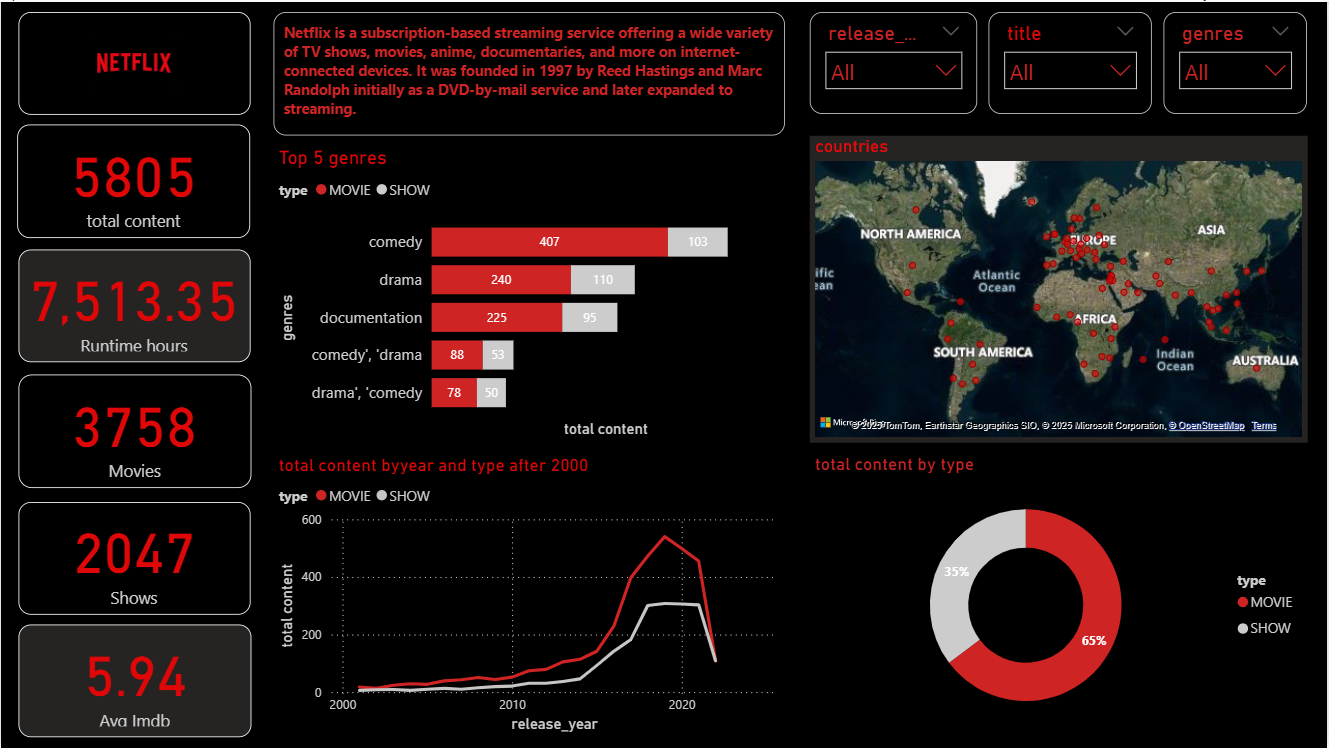

The page's visual inventory and layout, read from the dashboard file:
{"tool":"powerbi","page":{"name":"Page 1","canvas":[1280,720],"ordinal":0},"visuals":[{"type":"card","fields":{"Values":["Netflix_Data.Runtime hours"]},"box":[16.5,238.8,223.7,108.4],"z":0},{"type":"card","fields":{"Values":["Netflix_Data.total content"]},"box":[15.1,118,225,109.8],"z":1000},{"type":"card","fields":{"Values":["Netflix_Data.Movies"]},"box":[16.5,359.5,225,109.8],"z":2000},{"type":"card","fields":{"Values":["Netflix_Data.Shows"]},"box":[16.5,483,223.7,108.4],"z":3000},{"type":"card","fields":{"Values":["Netflix_Data.Avg Imdb"]},"box":[16.5,601,225,108.4],"z":4000},{"type":"barChart","title":"Top 5 genres ","fields":{"Category":["Netflix_Data.genres"],"Y":["Netflix_Data.total content"],"Series":["Netflix_Data.type"]},"box":[263.5,140,494,285.4],"z":5000},{"type":"lineChart","title":"total content byyear and type after 2000","fields":{"Category":["Netflix_Data.release_year"],"Y":["Netflix_Data.total content"],"Series":["Netflix_Data.type"]},"box":[263.5,436.4,494,273.1],"z":6000},{"type":"map","title":"countries","fields":{"Category":["Netflix_Data.production_countries"]},"box":[780.8,129,480.3,296.4],"z":7000},{"type":"donutChart","fields":{"Category":["Netflix_Data.type"],"Y":["Netflix_Data.total content"]},"box":[780.8,435,480.3,274.4],"z":8000},{"type":"slicer","fields":{"Values":["Netflix_Data.release_year"]},"box":[780.8,9.6,161.9,98.8],"z":9000},{"type":"slicer","fields":{"Values":["Netflix_Data.title"]},"box":[953.7,9.6,157.8,98.8],"z":10000},{"type":"slicer","fields":{"Values":["Netflix_Data.genres"]},"box":[1122.5,9.6,138.6,98.8],"z":11000},{"type":"textbox","box":[263.5,9.6,494,119.4],"z":12000},{"type":"image","box":[16.5,9.6,223.7,99],"z":13000}]}

Visuals, with their boxes in screenshot pixels (x1, y1, x2, y2), scaled from the page's 1280x720 canvas onto the 1329x748 screenshot:
card - Netflix_Data.Runtime hours: 17,248,249,361
card - Netflix_Data.total content: 16,123,249,237
card - Netflix_Data.Movies: 17,373,251,488
card - Netflix_Data.Shows: 17,502,249,614
card - Netflix_Data.Avg Imdb: 17,624,251,737
"Top 5 genres " barChart: 274,145,786,442
"total content byyear and type after 2000" lineChart: 274,453,786,737
"countries" map: 811,134,1309,442
donutChart - Netflix_Data.type x Netflix_Data.total content: 811,452,1309,737
slicer - Netflix_Data.release_year: 811,10,979,113
slicer - Netflix_Data.title: 990,10,1154,113
slicer - Netflix_Data.genres: 1165,10,1309,113
textbox: 274,10,786,134
image: 17,10,249,113
